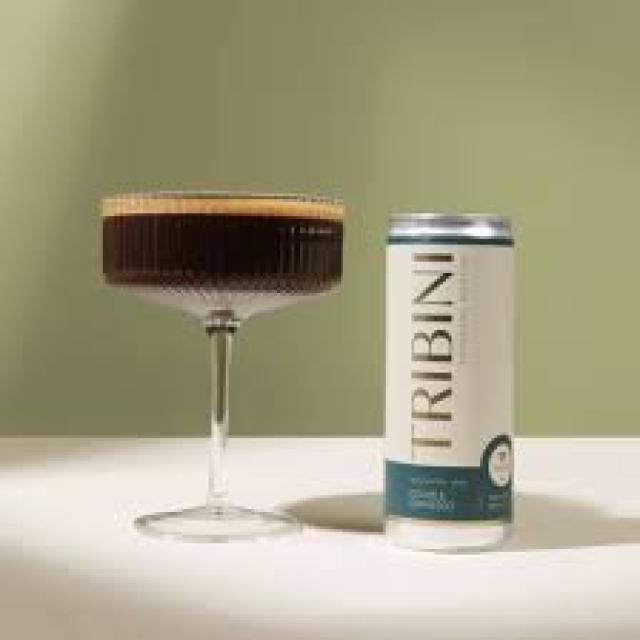Cans: (377, 208, 523, 554)
